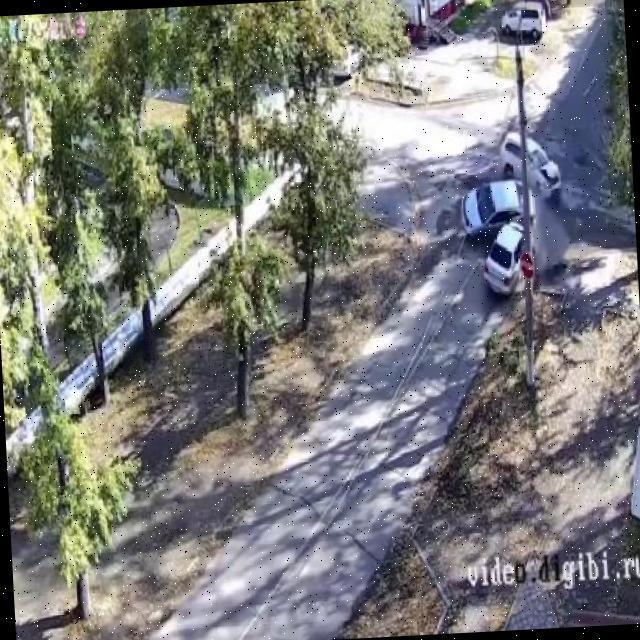accident: (482, 181, 540, 267)
